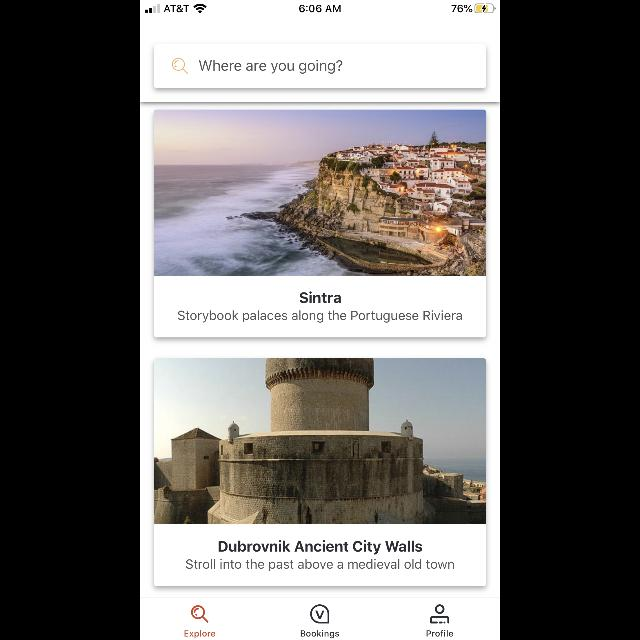icon: (430, 604, 450, 624), (192, 606, 208, 622), (172, 58, 188, 74)
image: (154, 358, 486, 524), (154, 110, 486, 276), (310, 604, 330, 624)
input: (154, 44, 486, 88)
text: (178, 311, 462, 323), (186, 559, 454, 571), (218, 540, 422, 554), (200, 60, 342, 74), (300, 291, 340, 303), (301, 630, 339, 638), (184, 630, 216, 638), (427, 630, 453, 636)
uppertaskbar: (140, 0, 500, 14)
